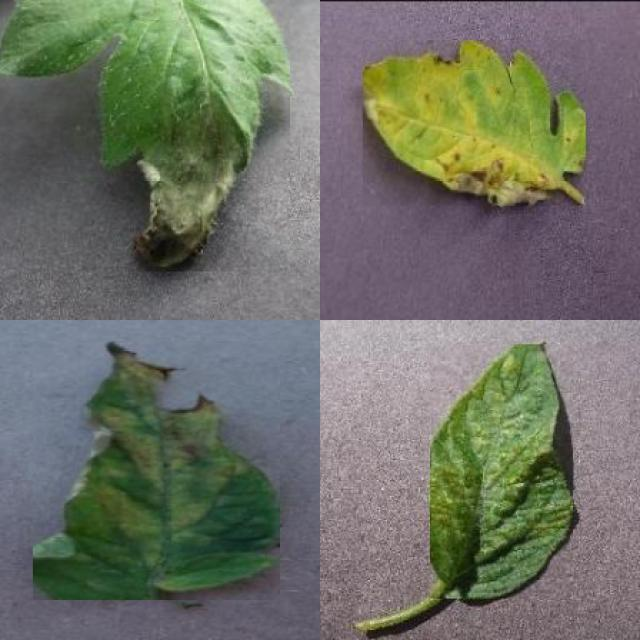Late Blight: (0, 0, 290, 271)
Leaf Mold: (33, 340, 280, 600)
Septoria: (364, 41, 586, 206)
Spider Mites: (431, 344, 574, 599)
